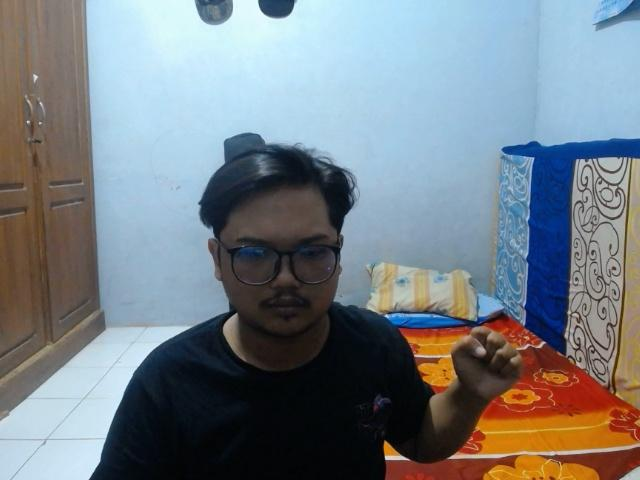Grab: (447, 322, 527, 407)
